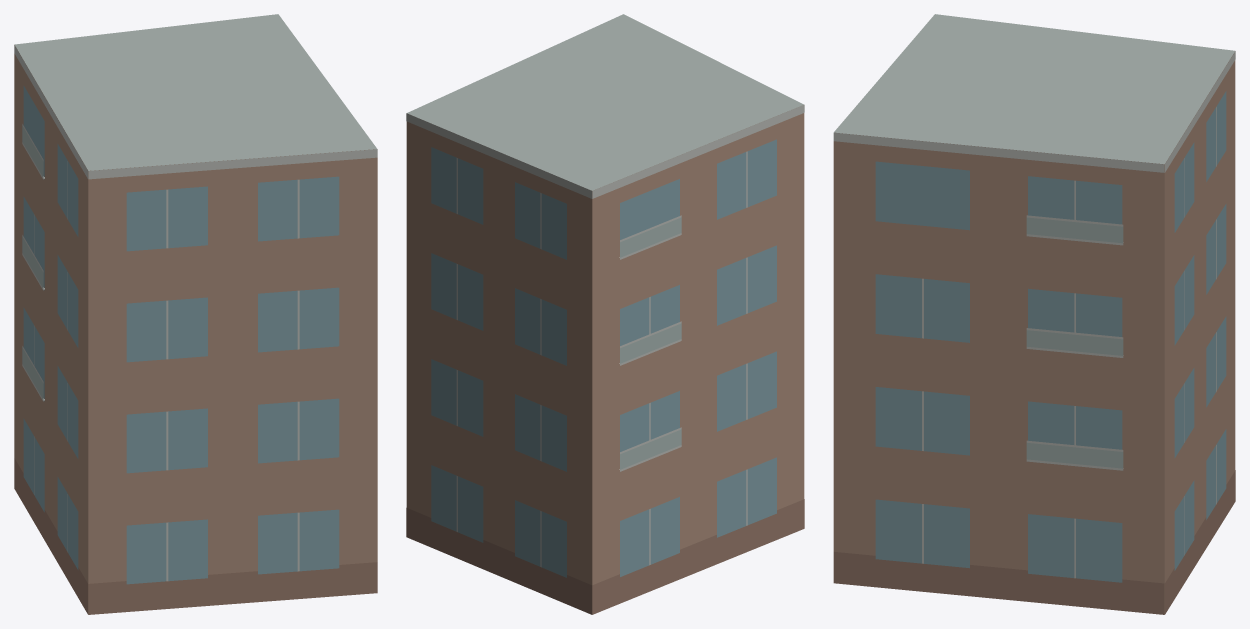
The model's file is survey-upis-32790167.glb.
3 renders of one model, left to right at view 1: azimuth 30°, elevation 25°; view 2: azimuth 150°, elevation 25°; view 3: azimuth 270°, elevation 25°, orthographic. The views are drawn at different scales.
Parts seen in each view (by area): view 1: survey-upis-32790167.tmp; view 2: survey-upis-32790167.tmp; view 3: survey-upis-32790167.tmp.
Part boxes in pixels (<box>): survey-upis-32790167.tmp: <box>14,14,377,614</box>; survey-upis-32790167.tmp: <box>406,14,804,614</box>; survey-upis-32790167.tmp: <box>833,14,1235,614</box>.
Size of the model in its own units: 9.09 by 12.7 by 10.28.
